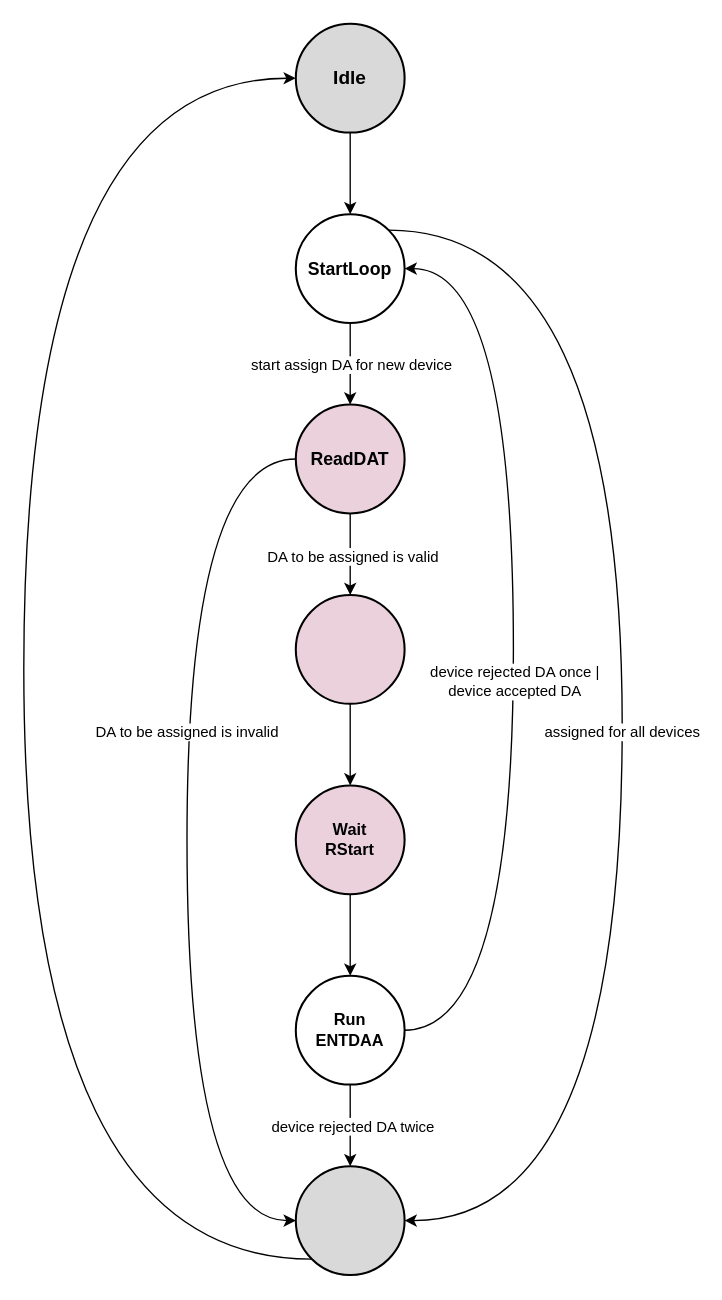
Some shapes in this 722 by 1300 pixel diagram are drawn without their labels. The shapes that lost their labels are listed below. From the top down, each one's box as (x1, y1, x2, y2) in pixels, then its label:
(294, 593, 405, 704): Request RStart
(294, 1165, 405, 1275): Done
